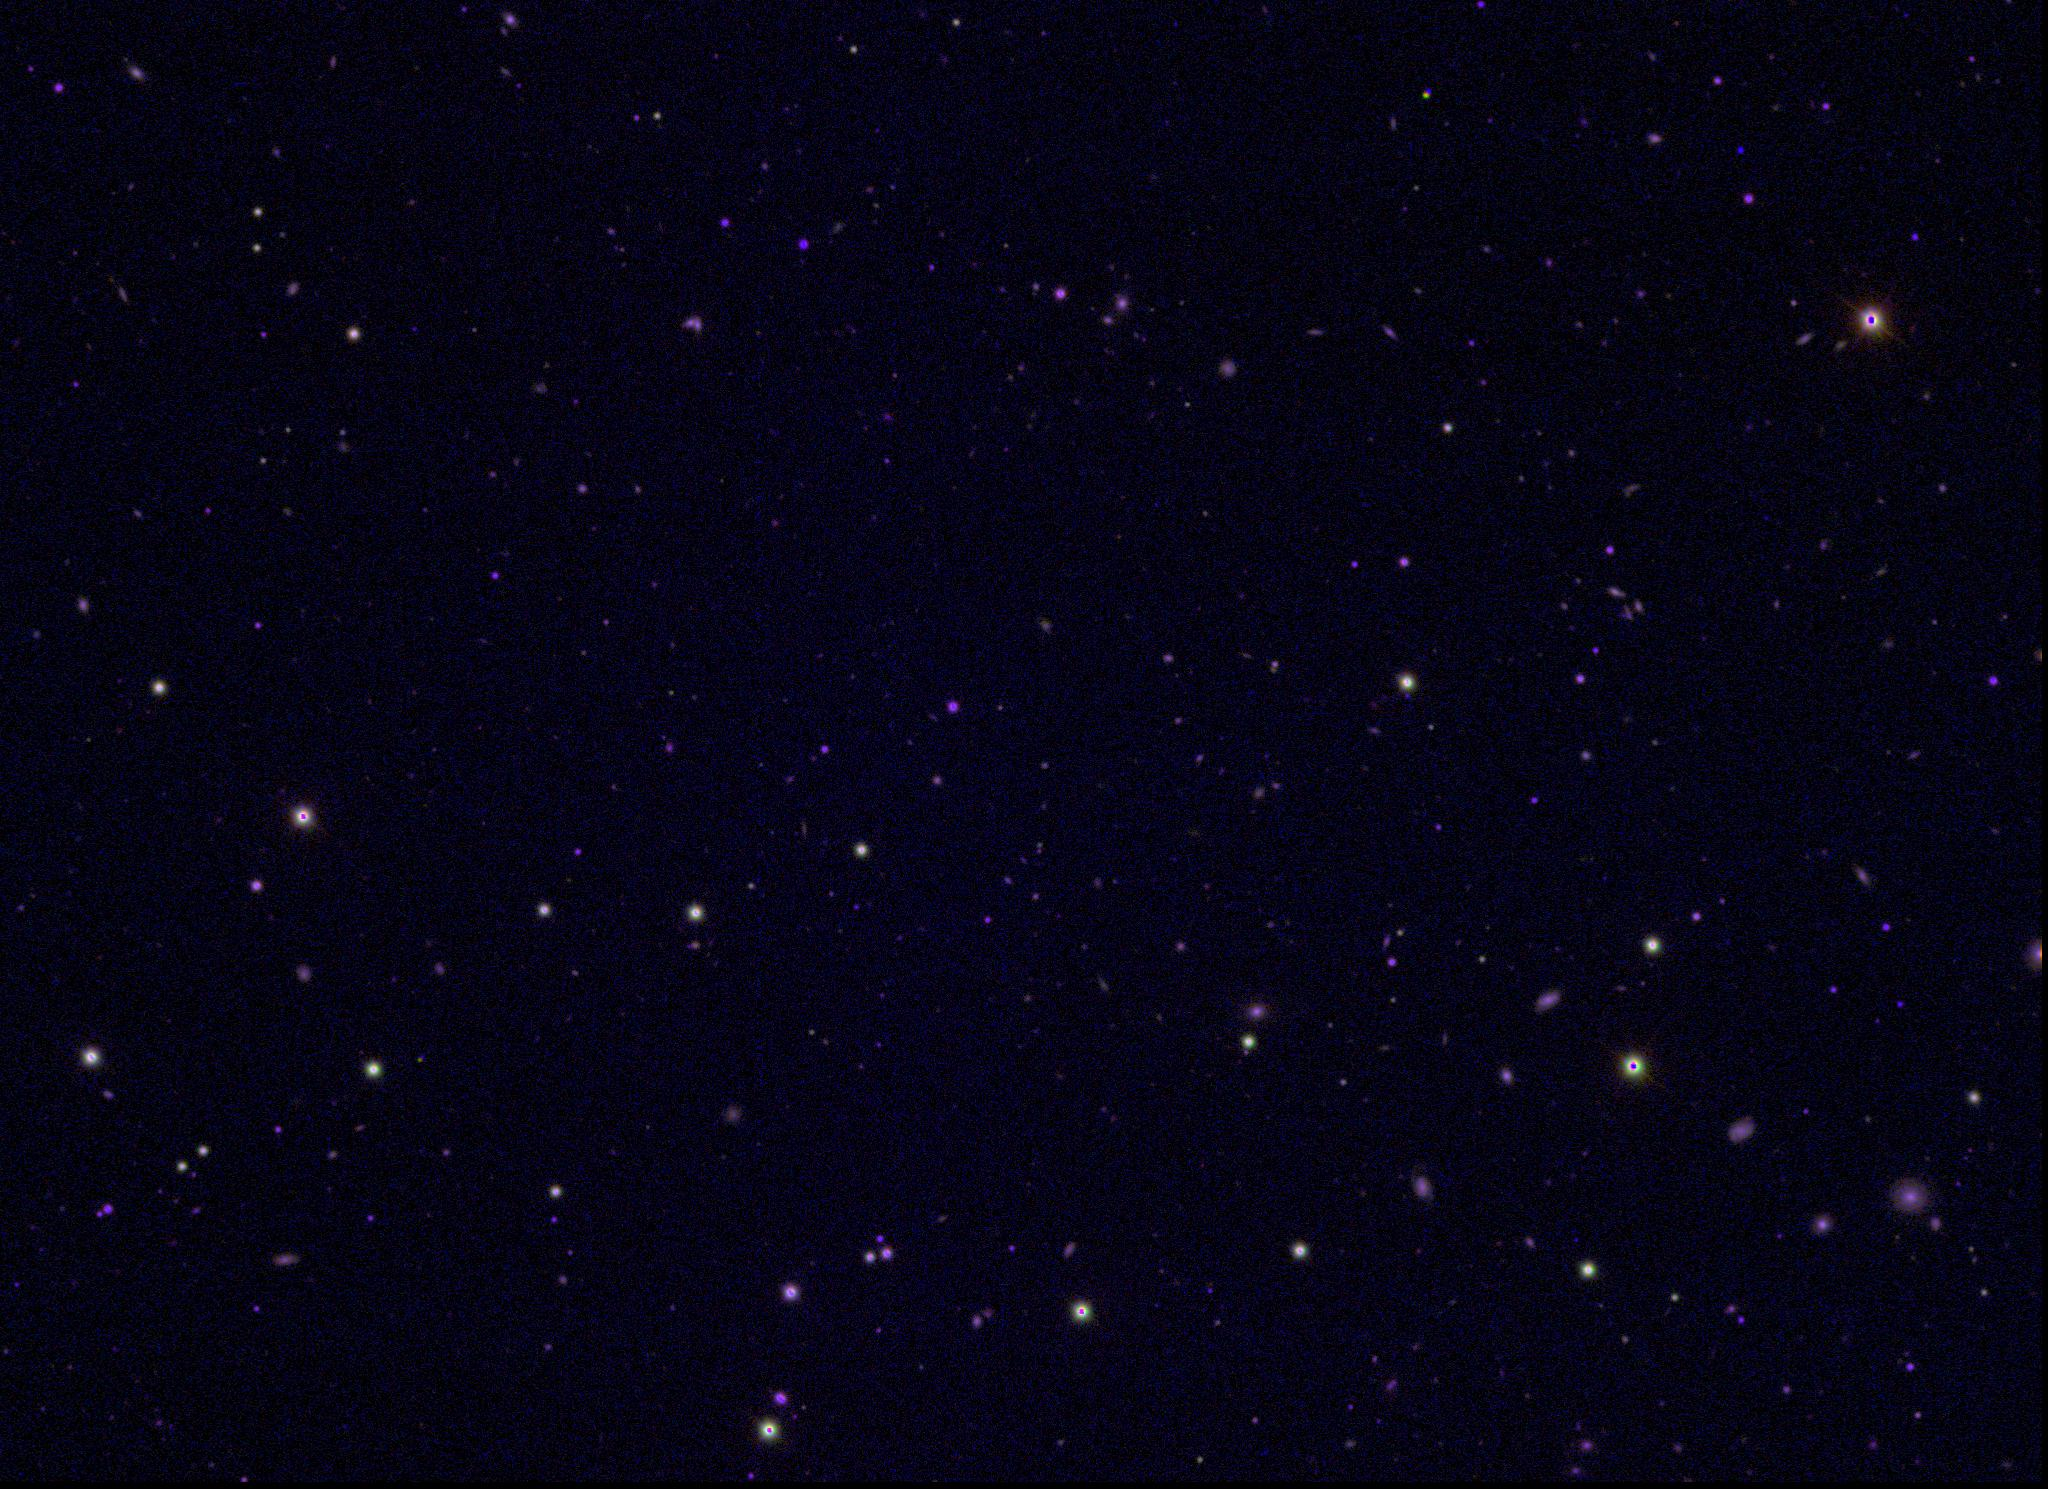L: (1730, 140, 1744, 154)
